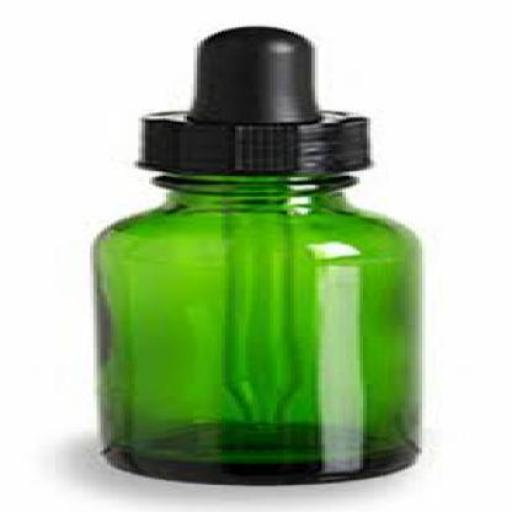glass: (90, 173, 418, 488)
plastic: (131, 24, 364, 173)
